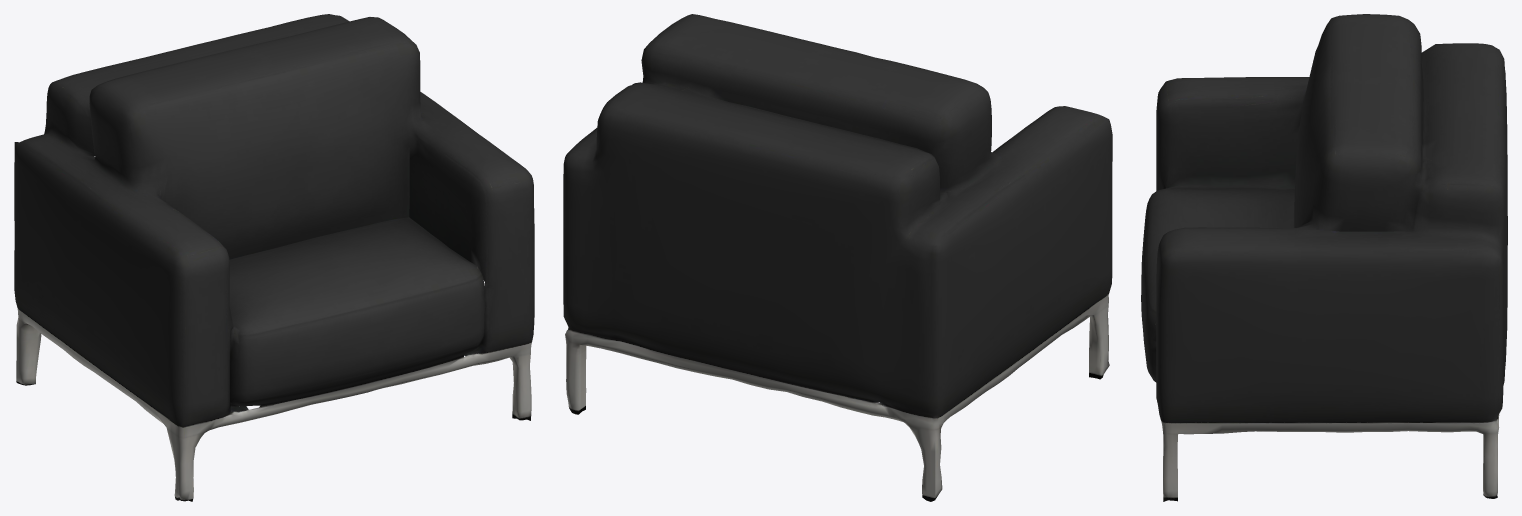
Rendered from armchair.glb.
3 views of the same model, side by side, from view 1: azimuth 30°, elevation 25°; view 2: azimuth 150°, elevation 25°; view 3: azimuth 270°, elevation 25° (orthographic). The views are drawn at different scales.
Visible parts, largest first — view 1: tripo_node_03ee13b1; view 2: tripo_node_03ee13b1; view 3: tripo_node_03ee13b1.
Boxes of the visible parts, x1,y1,x2,y2 form: tripo_node_03ee13b1: (14, 14, 534, 501); tripo_node_03ee13b1: (563, 14, 1112, 501); tripo_node_03ee13b1: (1141, 14, 1507, 501).
Size of the model in its own units: 99.96 by 85.82 by 84.74.
1 material, 1 textured.
